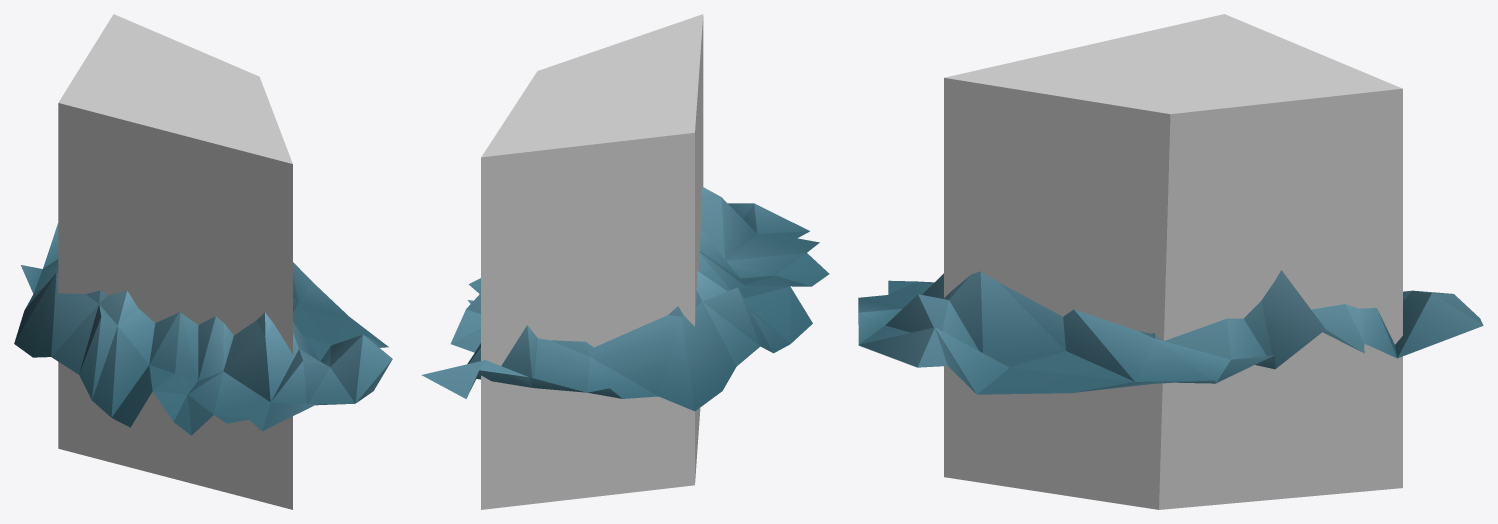
File: island_small_ice_Collection_4.fbx
3 views of the same model, side by side, from view 1: azimuth 30°, elevation 25°; view 2: azimuth 150°, elevation 25°; view 3: azimuth 270°, elevation 25° (orthographic). The views are drawn at different scales.
Visible parts, largest first — view 1: islandRock_4_col, islandRock_4; view 2: islandRock_4_col, islandRock_4; view 3: islandRock_4_col, islandRock_4.
Boxes of the visible parts, box(x1,y1,x2,y2) form: islandRock_4_col: box(58, 14, 292, 509); islandRock_4: box(14, 223, 392, 435); islandRock_4_col: box(481, 14, 703, 509); islandRock_4: box(421, 186, 829, 411); islandRock_4_col: box(944, 14, 1402, 509); islandRock_4: box(858, 270, 1483, 394).
Size of the model in its own units: 1933 by 2530 by 3589.
